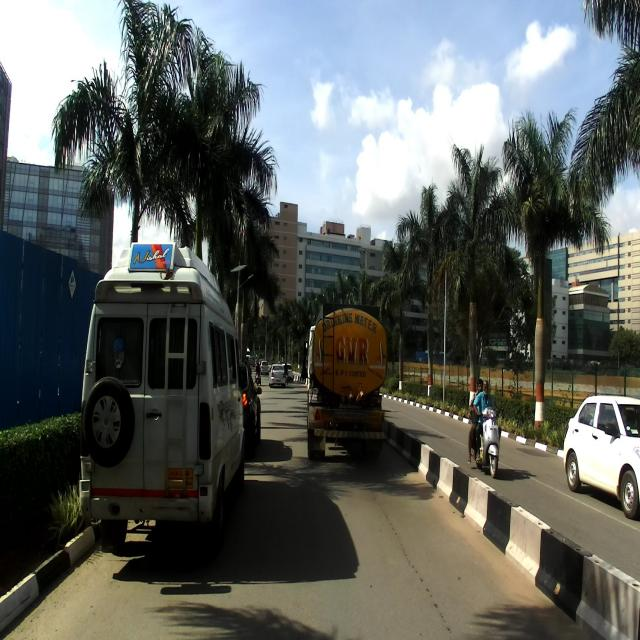car: (562, 392, 639, 518)
mini-bus: (77, 237, 249, 556)
scooter: (468, 404, 500, 476)
truck: (306, 303, 386, 472)
